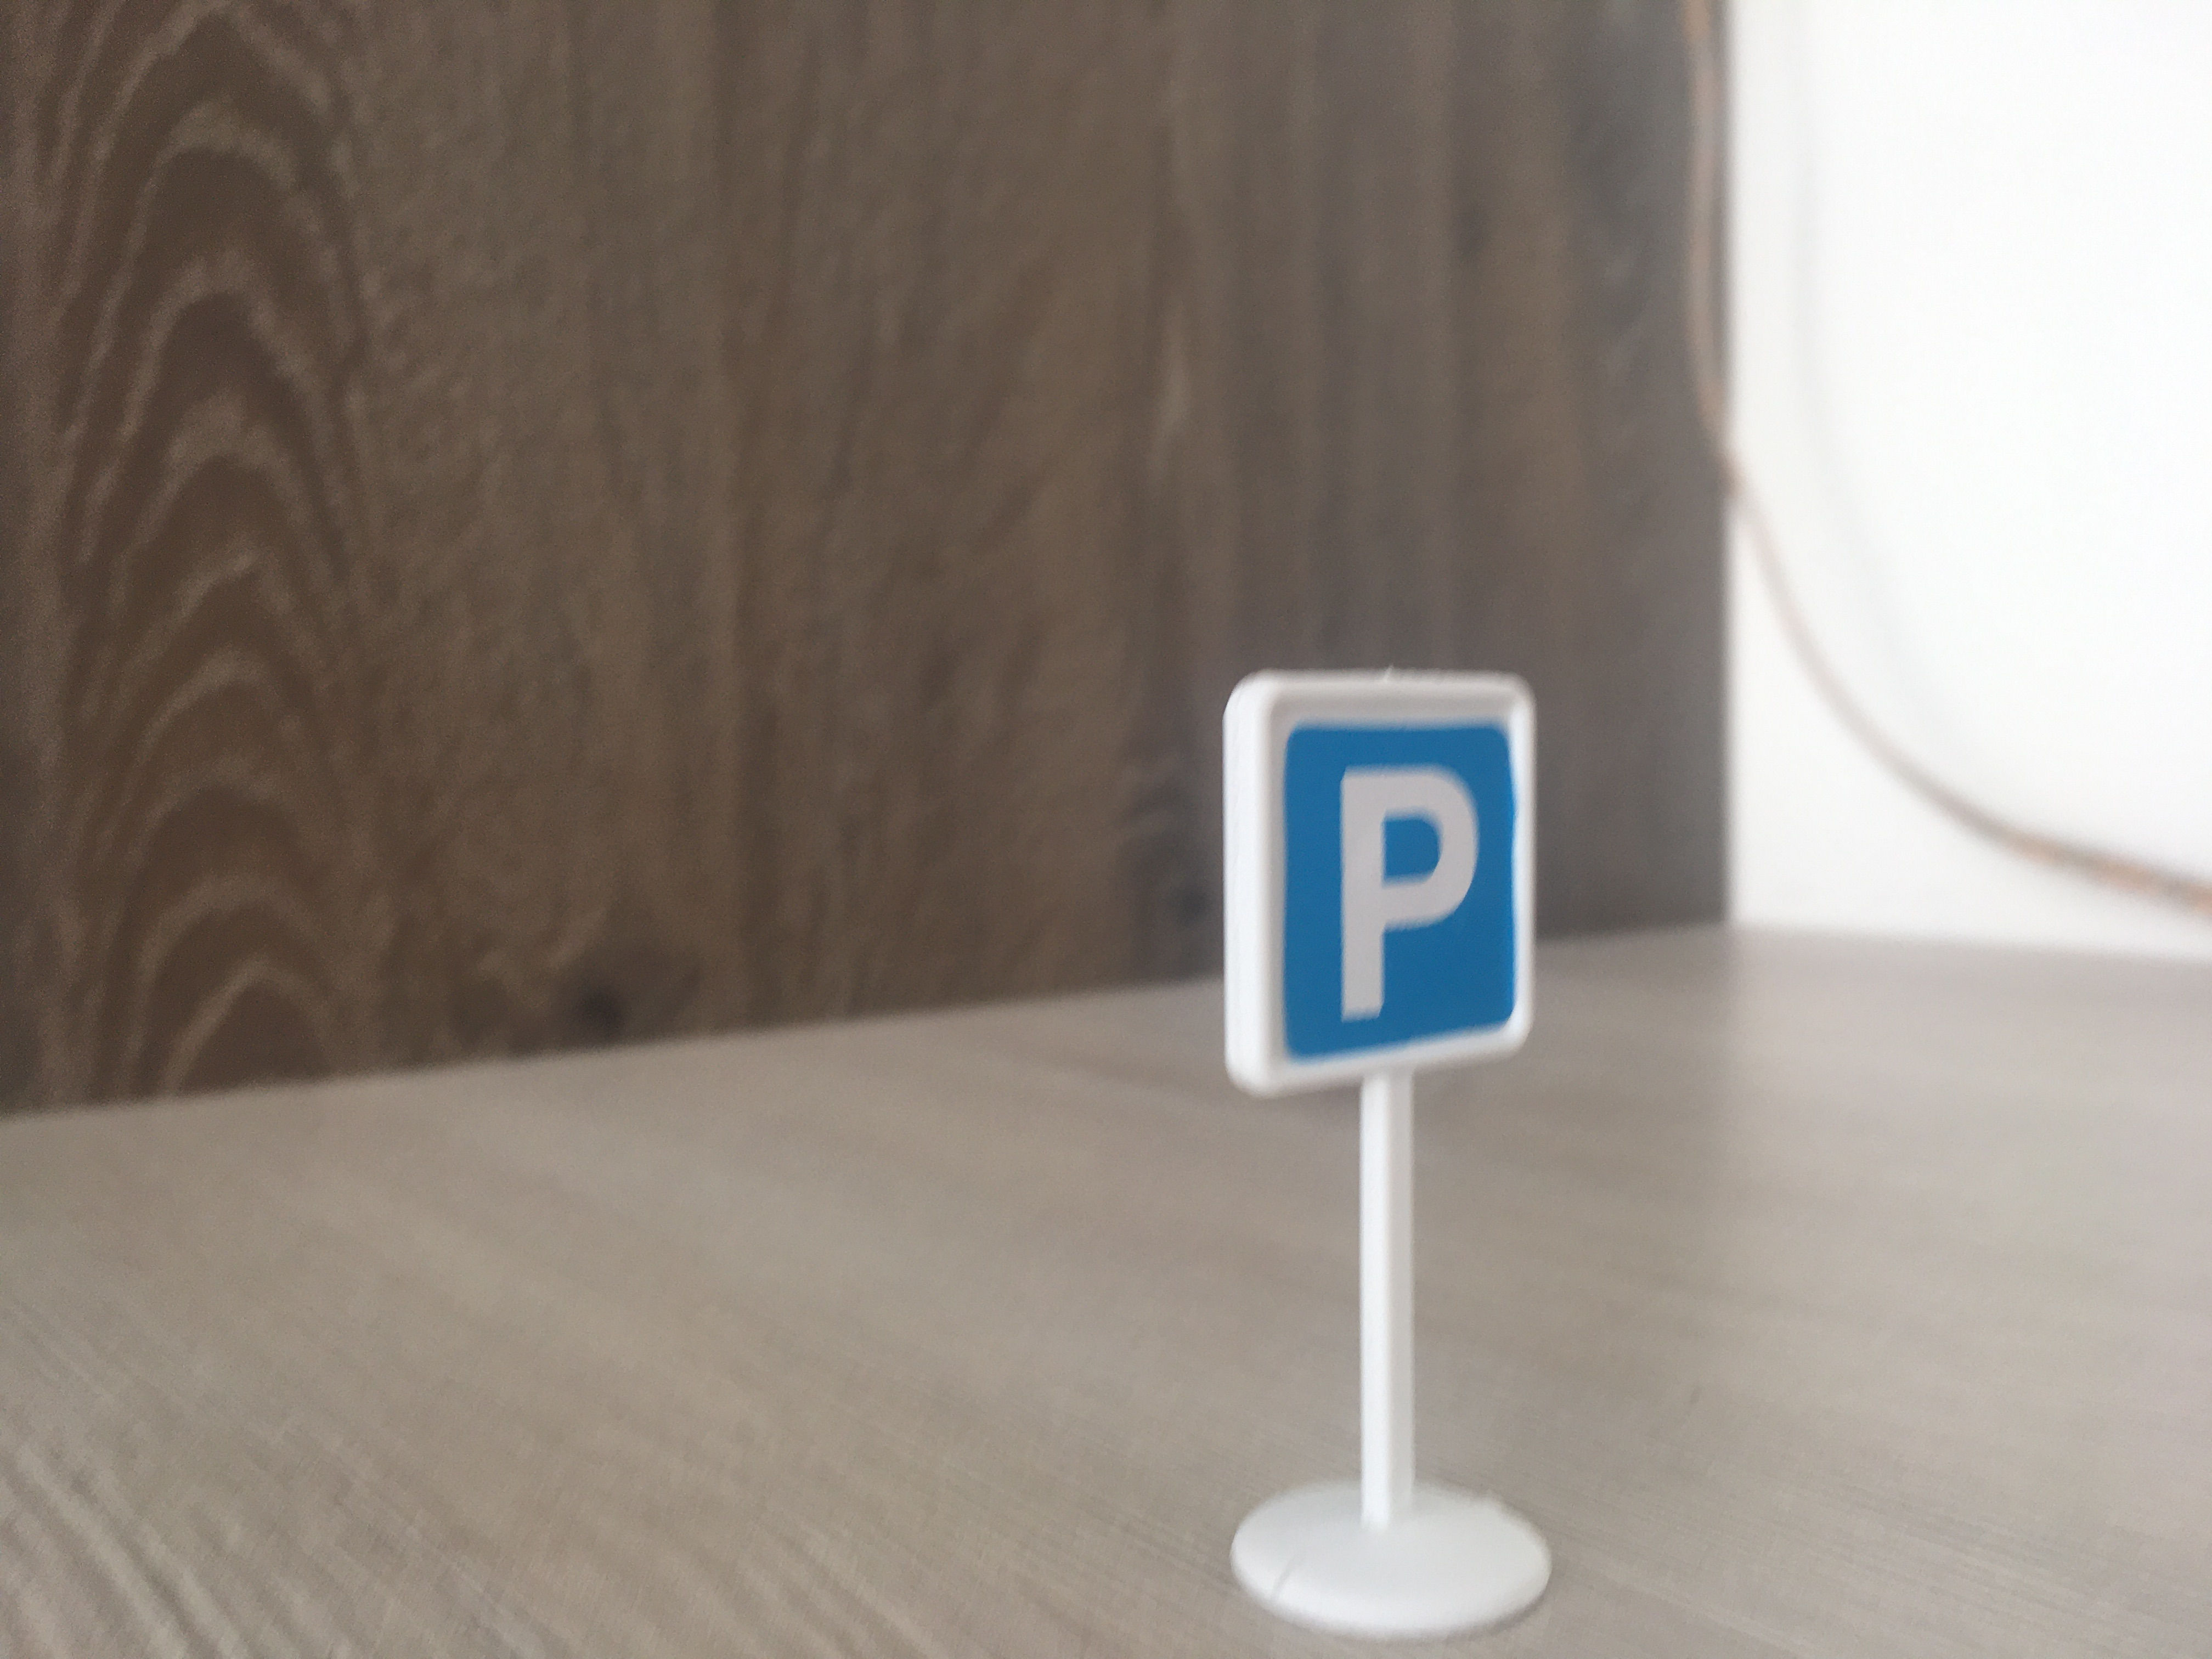parking: (1217, 673, 1541, 1094)
